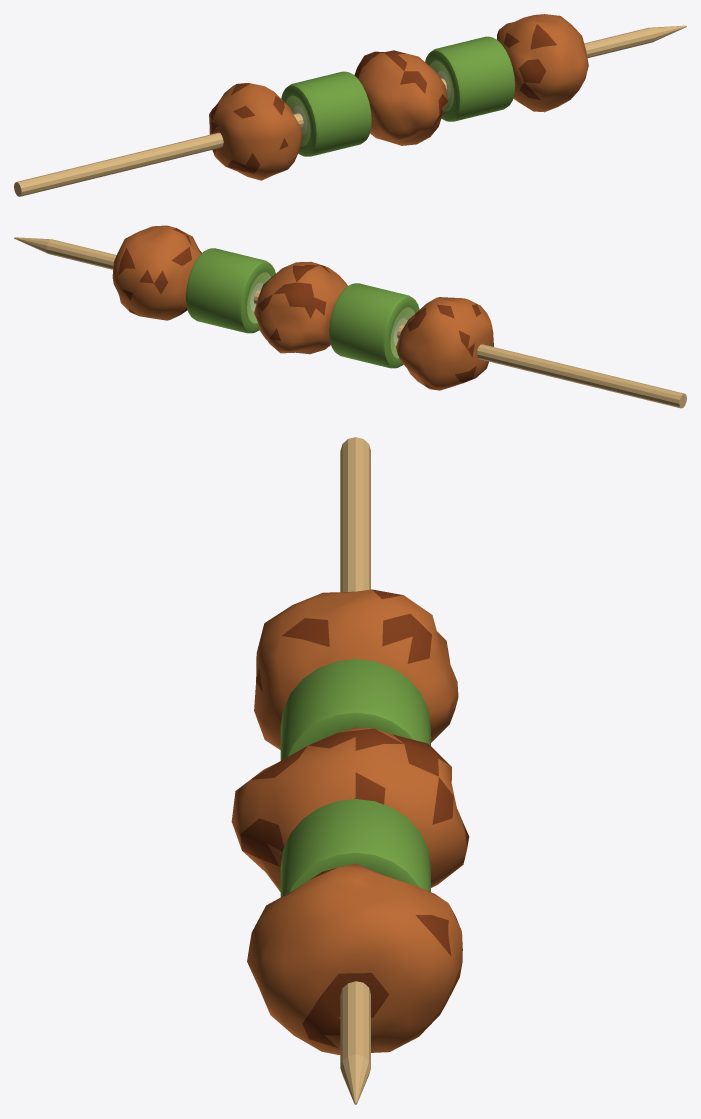
The model's file is Yakitori_Skewer.fbx.
3 views of the same model, one above another, from view 1: azimuth 30°, elevation 25°; view 2: azimuth 150°, elevation 25°; view 3: azimuth 270°, elevation 25° (orthographic). The views are drawn at different scales.
Parts seen in each view (by area): view 1: Yakitori_Skewer; view 2: Yakitori_Skewer; view 3: Yakitori_Skewer.
Boxes of the visible parts, x1,y1,x2,y2 form: Yakitori_Skewer: (14, 14, 686, 196); Yakitori_Skewer: (14, 225, 686, 408); Yakitori_Skewer: (231, 437, 469, 1104).
Size of the model in its own units: 0.222 by 0.0278 by 0.0342.
